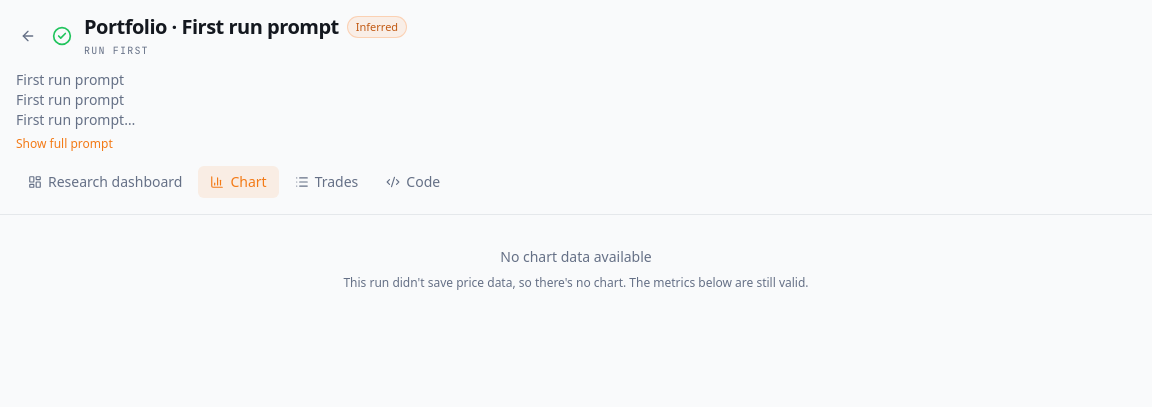
RunDetail page › collapses an expanded prompt when navigating to another run
Later steps or results of the test are not shown.
Click the button "Show full prompt".
click(64, 144)  # box left=16, top=136, right=113, bottom=152
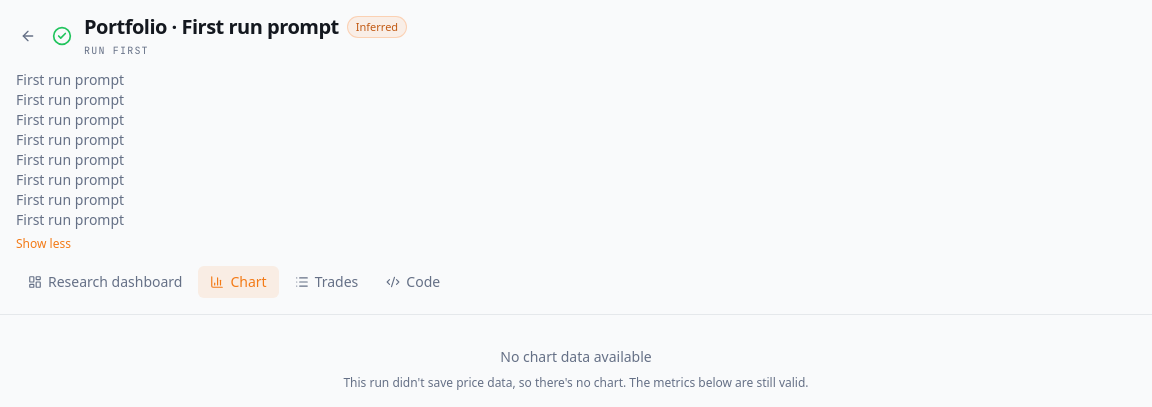
Expected: the button "Show less" is expanded, left=16, top=236, right=71, bottom=252
